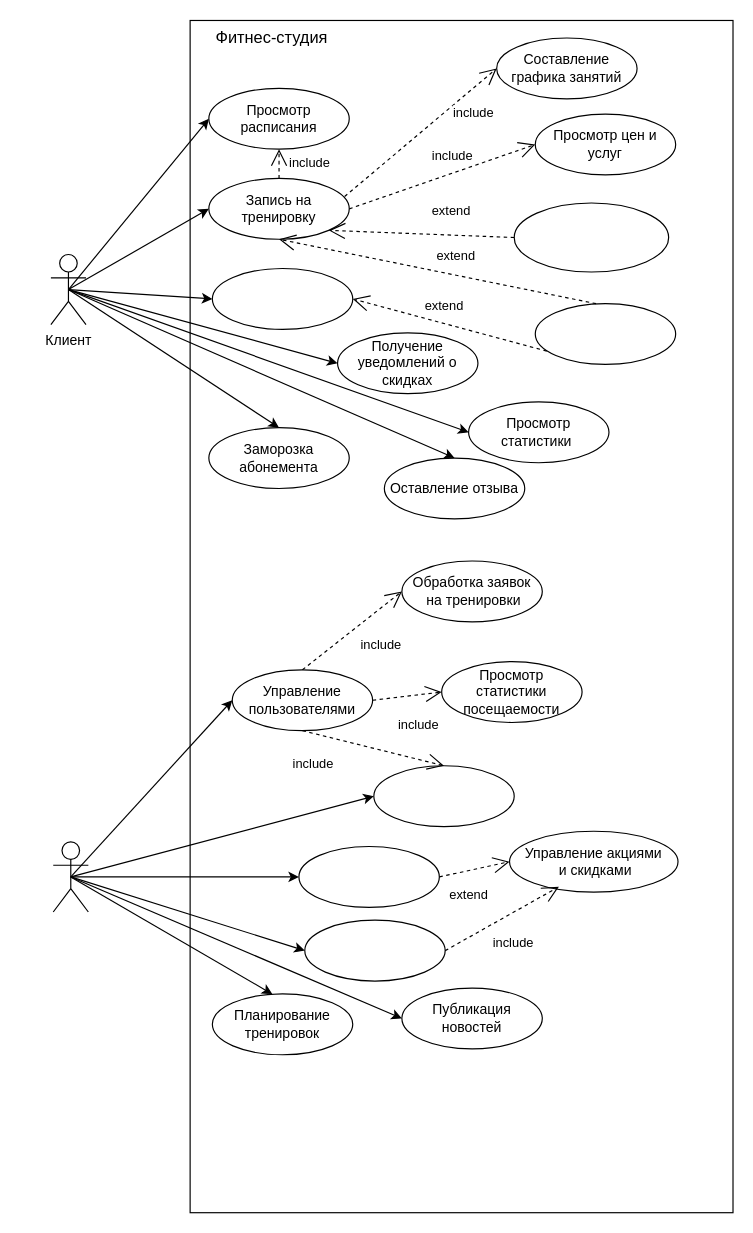
The diagram is 753 pixels wide and 1233 high, and some of its shapes have lost their labels. Here are the shapes that lost their labels. From the top down, the centre of each, then its label:
At point (591, 237): "Использование фильтров для поиска тренировок".
At point (282, 298): "Покупка абонемента".
At point (605, 333): "Применение бонусов и скидок".
At point (443, 796): "Просмотр отзывов".
At point (70, 876): "Администратор".
At point (368, 876): "Управление расписанием тренировок".
At point (374, 950): "Управление бонусной системой".
